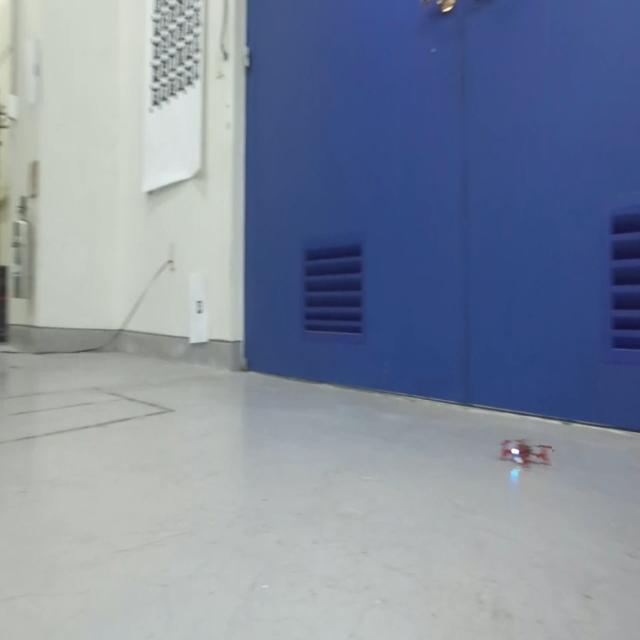crazyflie: (496, 432, 552, 472)
